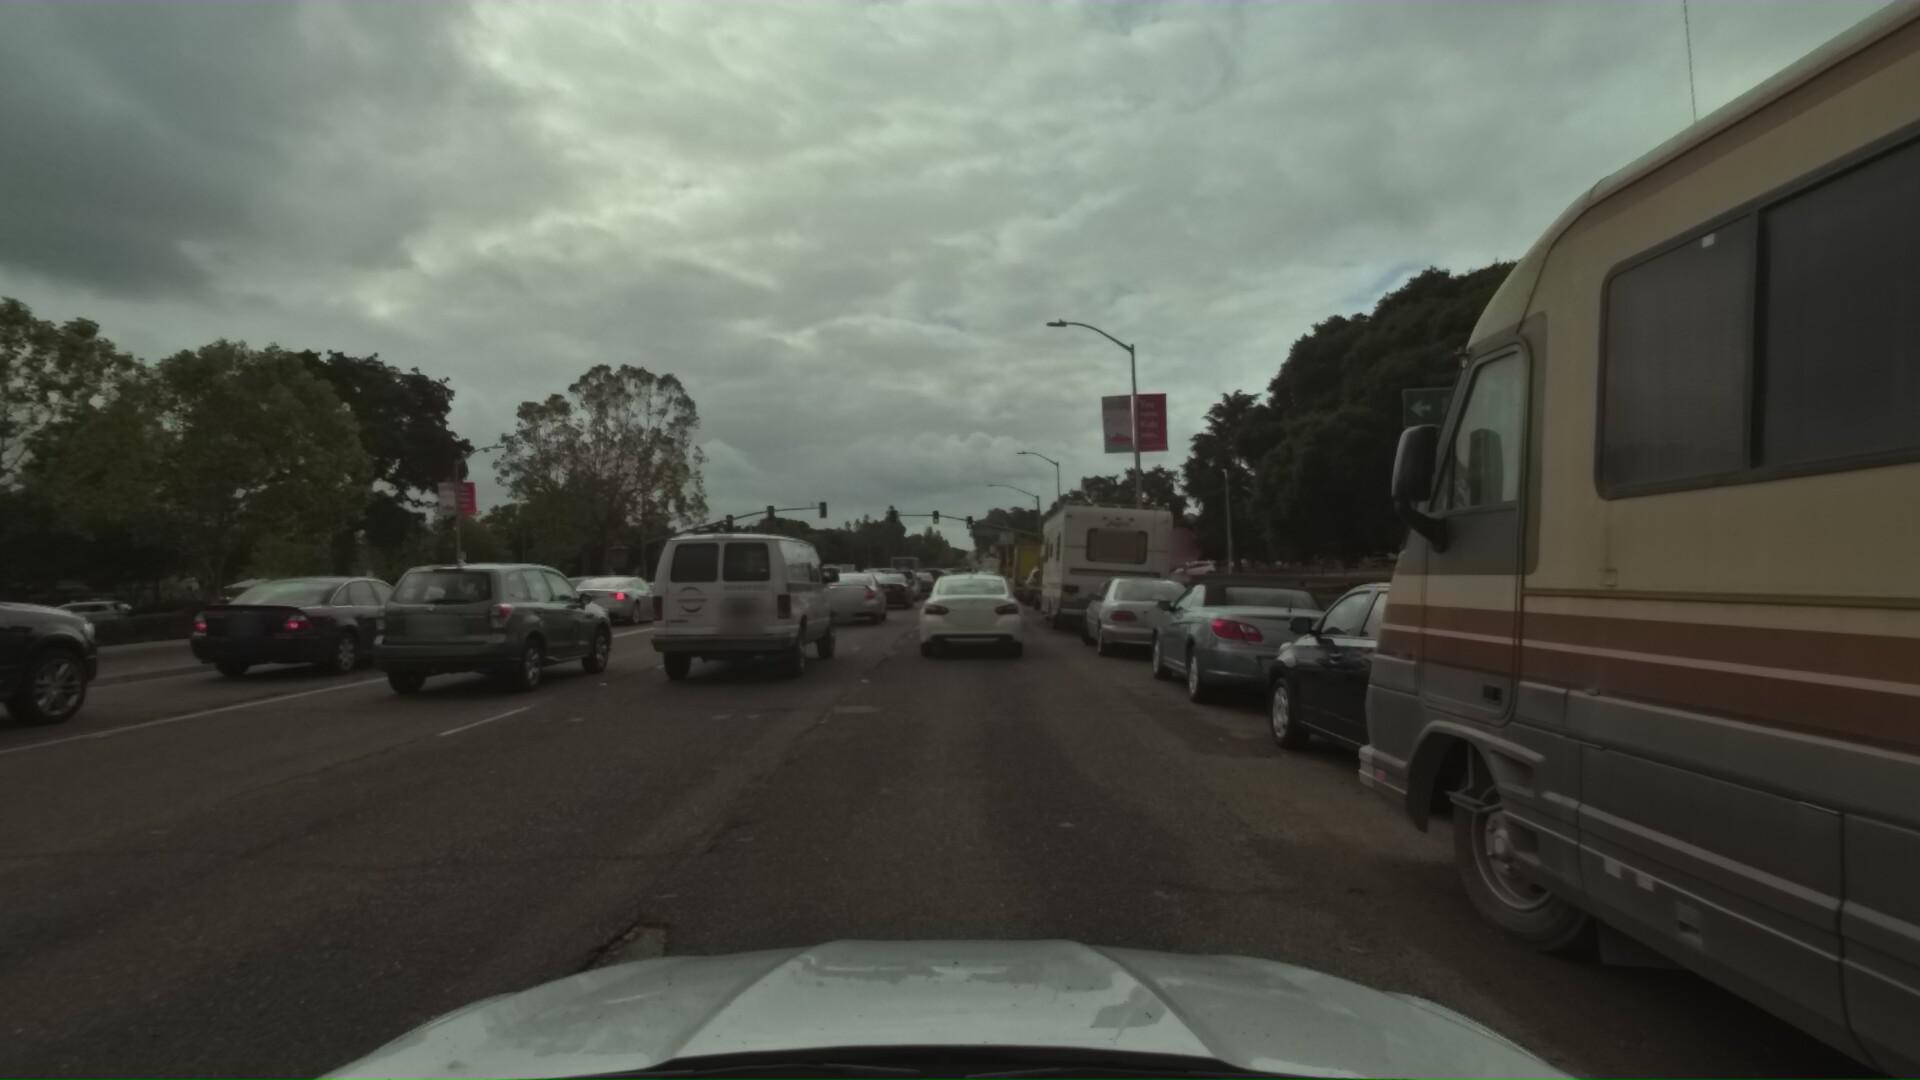car: (1250, 556, 1731, 847), (349, 553, 625, 707), (0, 535, 129, 862), (1141, 572, 1383, 737), (157, 564, 459, 688), (642, 520, 843, 690), (1079, 568, 1217, 674), (916, 568, 1025, 666), (324, 578, 454, 640), (553, 564, 675, 625), (924, 558, 1005, 630), (1030, 541, 1108, 613), (811, 566, 889, 628), (640, 563, 727, 609), (538, 574, 613, 615), (1019, 556, 1069, 603), (857, 568, 910, 609), (880, 564, 920, 600), (810, 560, 849, 589), (905, 568, 938, 597), (916, 563, 942, 585)
other_vehicle: (1034, 483, 1191, 640)
truck: (1006, 533, 1071, 600), (818, 556, 858, 585)
